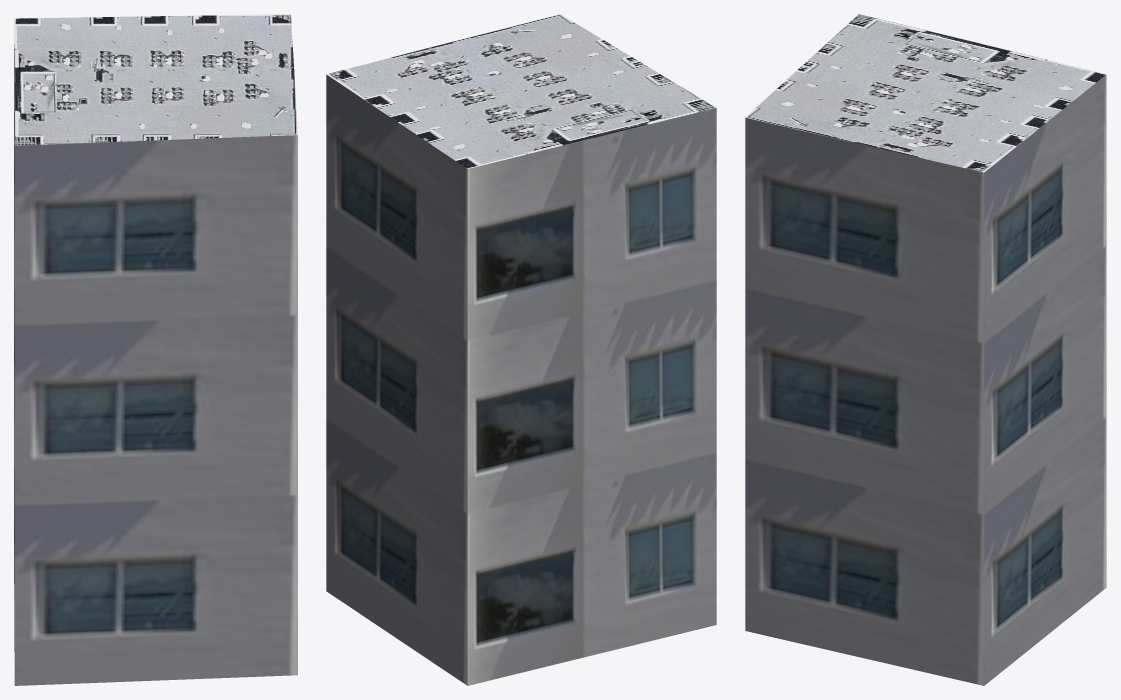
The model's file is ResTex__3579.fbx.
3 views of the same model, side by side, from view 1: azimuth 30°, elevation 25°; view 2: azimuth 150°, elevation 25°; view 3: azimuth 270°, elevation 25° (orthographic). The views are drawn at different scales.
Visible parts, largest first — view 1: CityEngineMaterial_10_m, CityEngineMaterial_8_m; view 2: CityEngineMaterial_10_m, CityEngineMaterial_8_m; view 3: CityEngineMaterial_10_m, CityEngineMaterial_8_m.
Part boxes in pixels (x1,y1,x2,y2): CityEngineMaterial_10_m: [14, 44, 297, 685]; CityEngineMaterial_8_m: [14, 14, 297, 145]; CityEngineMaterial_10_m: [326, 74, 716, 685]; CityEngineMaterial_8_m: [326, 14, 715, 168]; CityEngineMaterial_10_m: [745, 74, 1106, 685]; CityEngineMaterial_8_m: [745, 14, 1106, 172].
Size of the model in its own units: 5.97 by 9 by 5.75.
2 materials, 2 textured.
